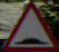Speed Breaker ahead: (8, 7, 51, 48)
